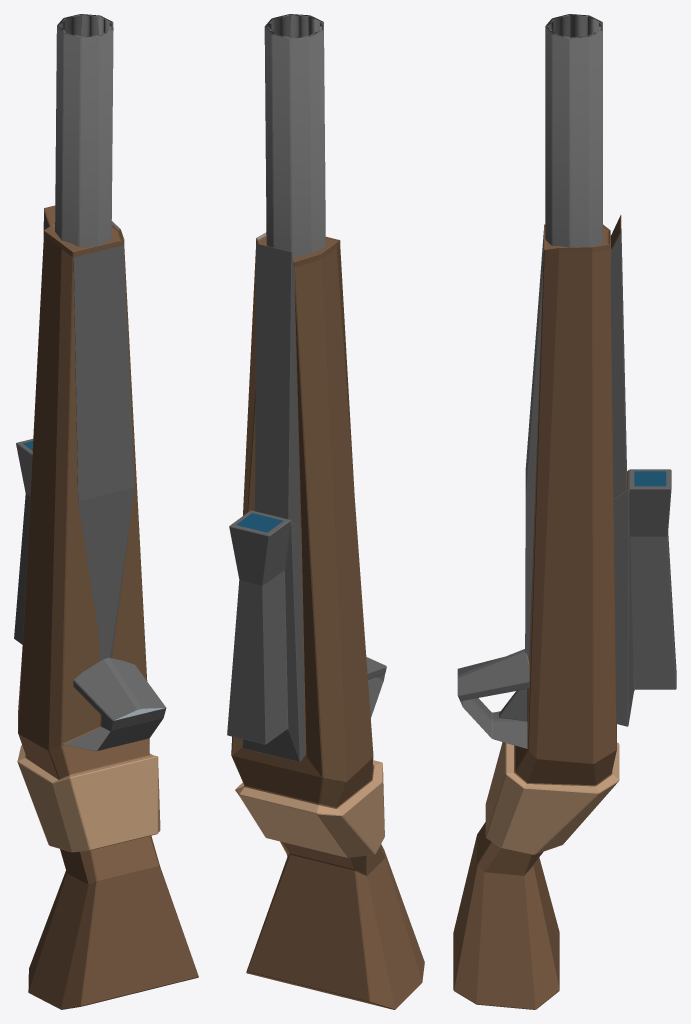
Rendered from scoped_rifle.glb.
3 renders of one model, left to right at view 1: azimuth 30°, elevation 25°; view 2: azimuth 150°, elevation 25°; view 3: azimuth 270°, elevation 25°, orthographic. The views are drawn at different scales.
Parts seen in each view (by area): view 1: scoped_rifle; view 2: scoped_rifle; view 3: scoped_rifle.
Part boxes in pixels (<box>): scoped_rifle: <box>14,14,198,1009</box>; scoped_rifle: <box>227,14,424,1009</box>; scoped_rifle: <box>453,14,676,1009</box>.
Size of the model in its own units: 0.2442 by 1.53 by 0.325.
1 material, 1 textured.
